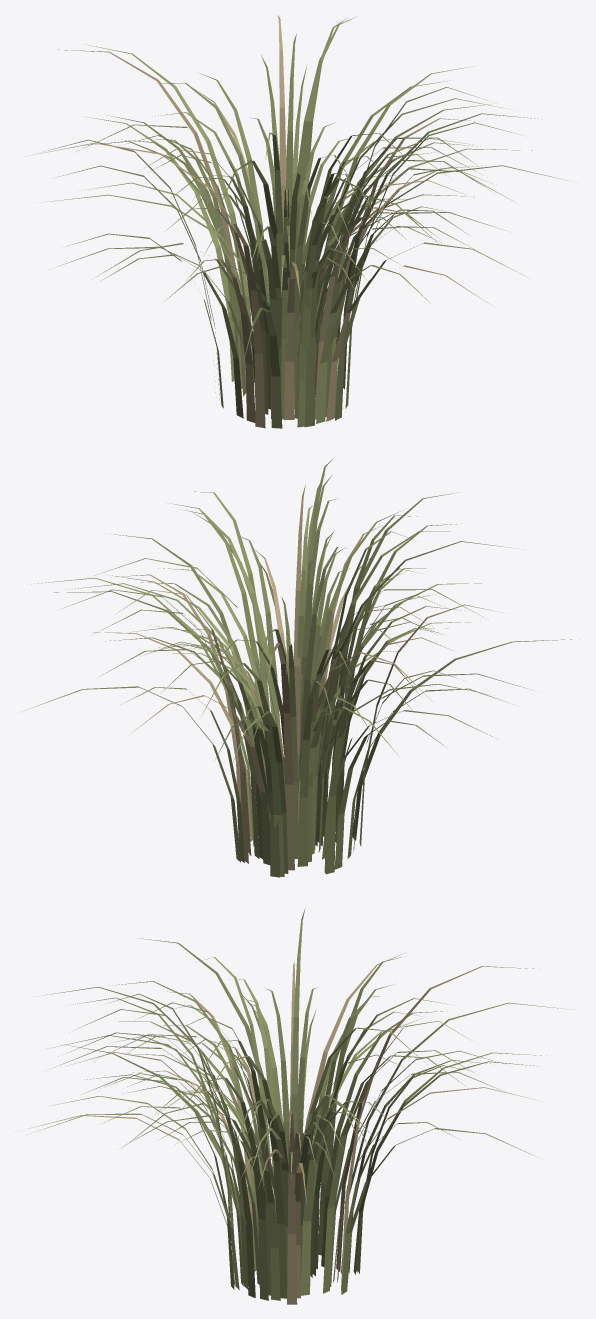
The model's file is lomandra-longifolia-light.glb.
3 views of the same model, one above another, from view 1: azimuth 30°, elevation 25°; view 2: azimuth 150°, elevation 25°; view 3: azimuth 270°, elevation 25° (orthographic). The views are drawn at different scales.
Parts seen in each view (by area): view 1: lomandra-longifolia • arching individual blades; view 2: lomandra-longifolia • arching individual blades; view 3: lomandra-longifolia • arching individual blades.
Part boxes in pixels (x1,y1,x2,y2): lomandra-longifolia • arching individual blades: [26, 15, 567, 428]; lomandra-longifolia • arching individual blades: [25, 459, 579, 877]; lomandra-longifolia • arching individual blades: [28, 908, 574, 1304].
Size of the model in its own units: 0.8947 by 0.5772 by 1.
